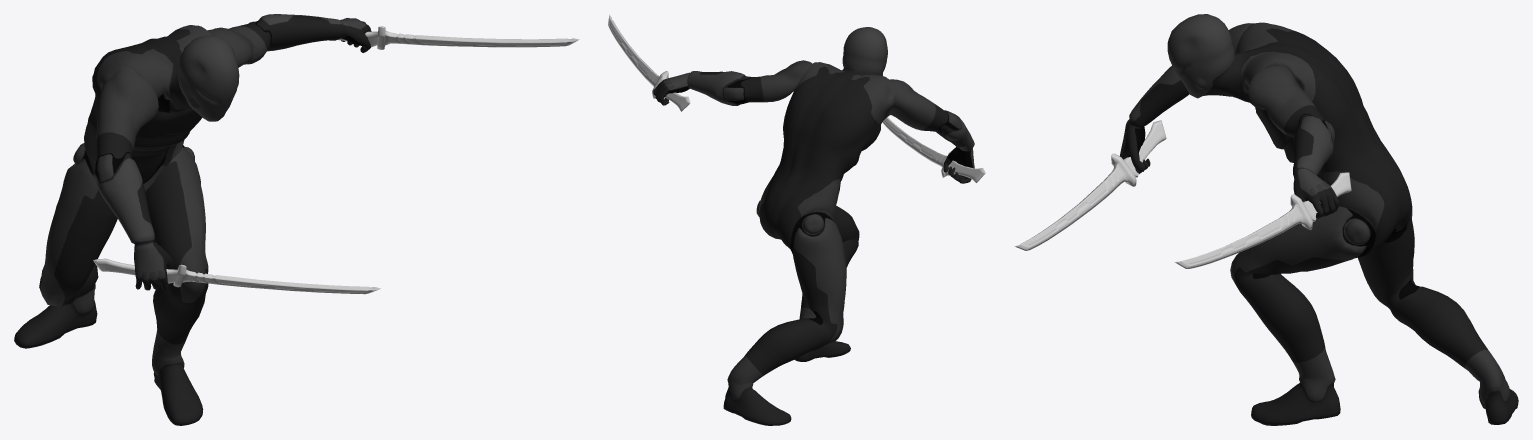
3 renders of one model, left to right at view 1: azimuth 30°, elevation 25°; view 2: azimuth 150°, elevation 25°; view 3: azimuth 270°, elevation 25°, orthographic. The views are drawn at different scales.
Parts seen in each view (by area): view 1: Cyborg_Ninja_Killer, Sword_l001, Sword_l; view 2: Cyborg_Ninja_Killer, Sword_l001, Sword_l; view 3: Cyborg_Ninja_Killer, Sword_l001, Sword_l.
Boxes of the visible parts, x1,y1,x2,y2 form: Cyborg_Ninja_Killer: (14, 14, 371, 425); Sword_l001: (93, 258, 380, 294); Sword_l: (337, 26, 579, 49); Cyborg_Ninja_Killer: (653, 27, 974, 425); Sword_l001: (882, 117, 985, 182); Sword_l: (608, 14, 690, 111); Cyborg_Ninja_Killer: (1120, 14, 1518, 425); Sword_l001: (1014, 120, 1166, 250); Sword_l: (1175, 172, 1351, 268).
Bounding box in the file's own units: 175 × 138 × 159.
